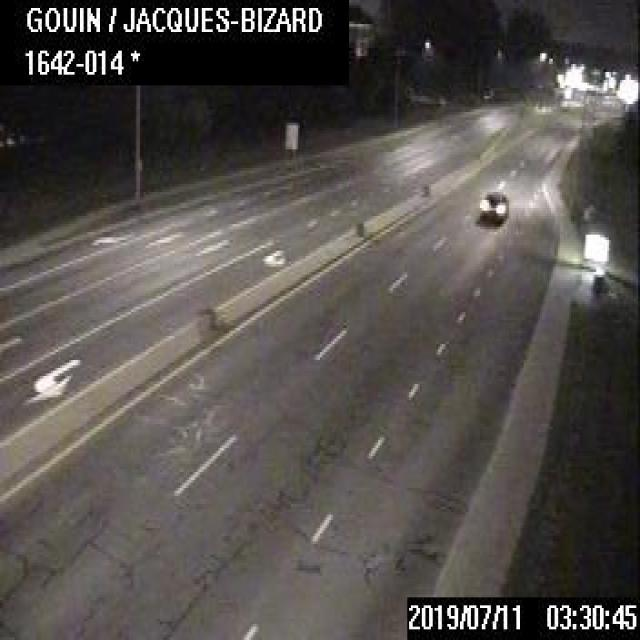vehicle: (478, 189, 507, 222)
